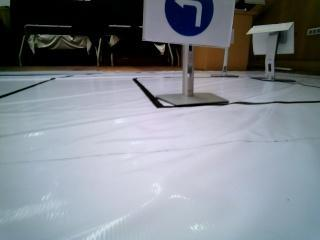left: (146, 0, 226, 47)
